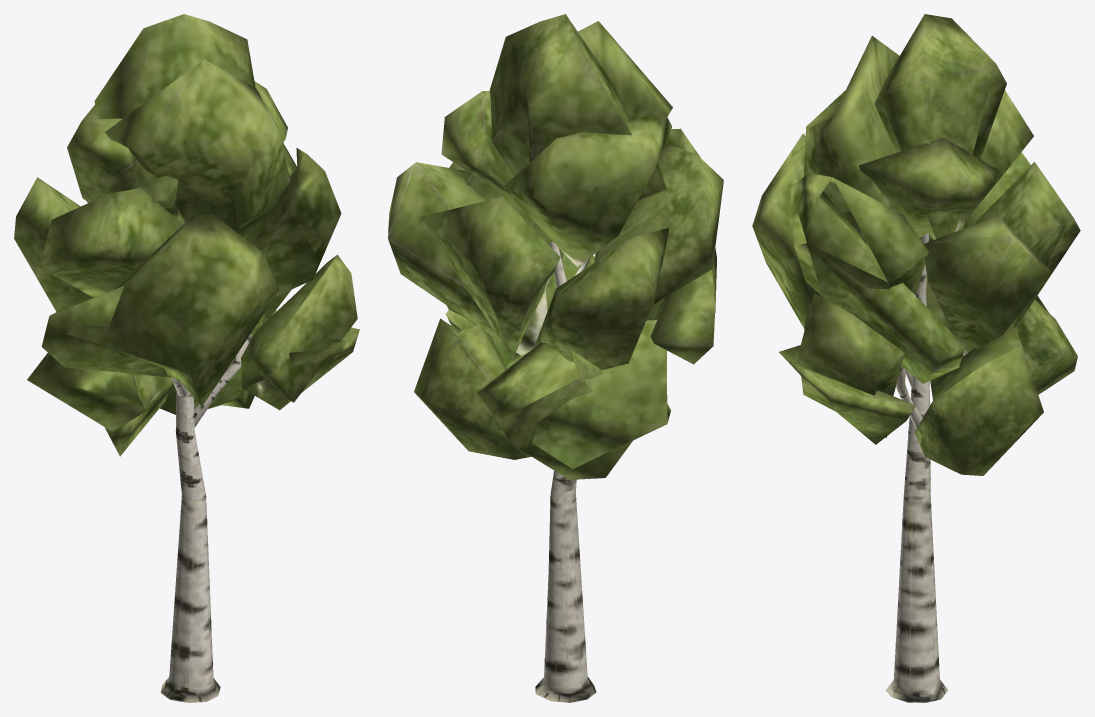
File: tree-birch-01.glb
The picture shows the model from 3 angles, left to right: view 1: azimuth 30°, elevation 25°; view 2: azimuth 150°, elevation 25°; view 3: azimuth 270°, elevation 25°; orthographic projection.
Bounding box in the file's own units: 0.4277 × 0.9531 × 0.4204.
Materials: 1 (1 with a texture image).
